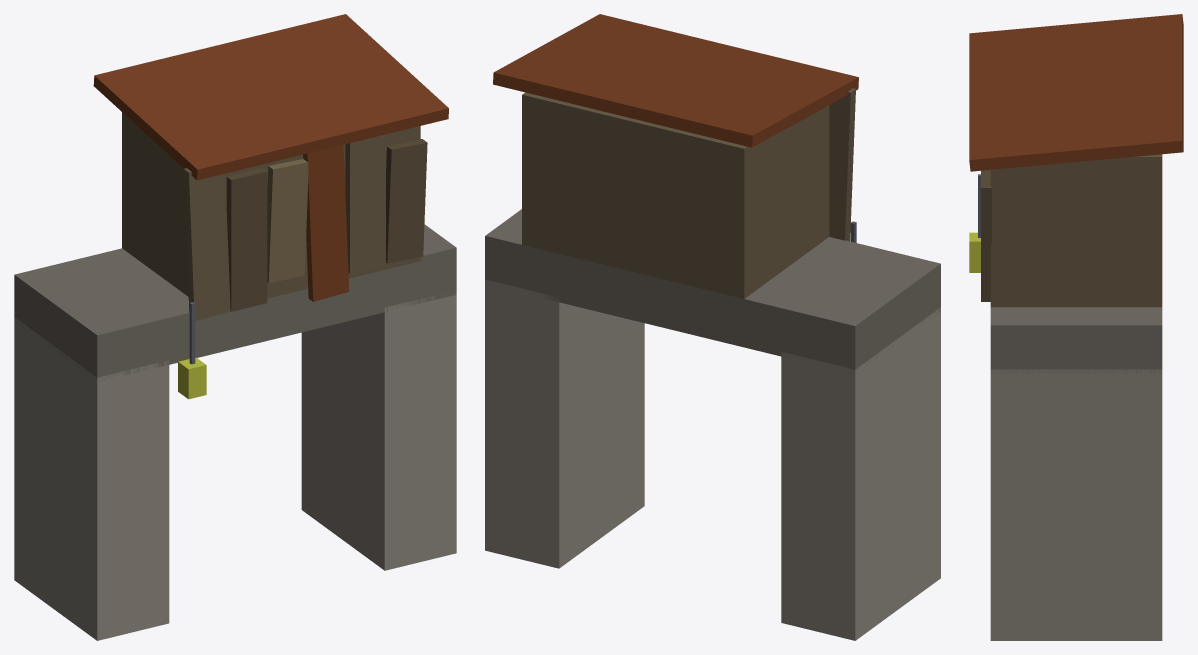
Rendered from ratfolk_house_c.glb.
3 views of the same model, side by side, from view 1: azimuth 30°, elevation 25°; view 2: azimuth 150°, elevation 25°; view 3: azimuth 270°, elevation 25° (orthographic). The views are drawn at different scales.
Parts seen in each view (by area): view 1: ratfolk_house_c; view 2: ratfolk_house_c; view 3: ratfolk_house_c.
Part boxes in pixels (<box>): ratfolk_house_c: <box>14,14,456,640</box>; ratfolk_house_c: <box>485,14,940,640</box>; ratfolk_house_c: <box>969,14,1183,640</box>.
Bounding box in the file's own units: 2 × 2.53 × 1.
